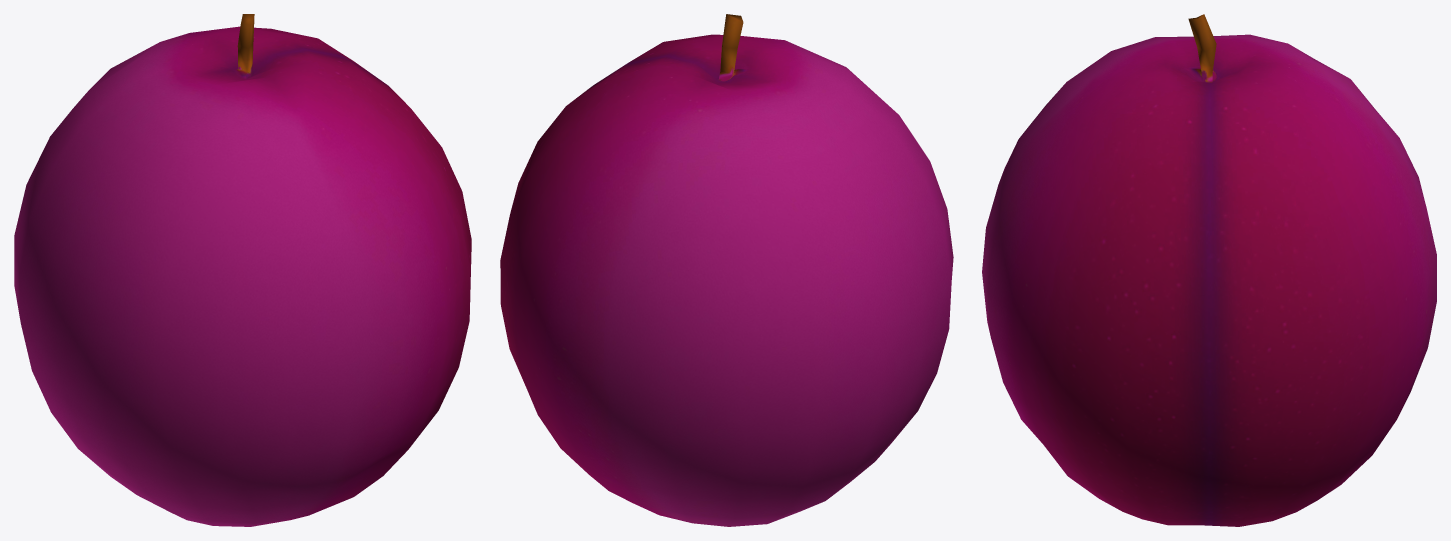
File: plum-300T.fbx
3 renders of one model, left to right at view 1: azimuth 30°, elevation 25°; view 2: azimuth 150°, elevation 25°; view 3: azimuth 270°, elevation 25°, orthographic.
Parts seen in each view (by area): view 1: tripo_node_a5fed876; view 2: tripo_node_a5fed876; view 3: tripo_node_a5fed876.
Part boxes in pixels (x1,y1,x2,y2): tripo_node_a5fed876: (14, 14, 471, 526); tripo_node_a5fed876: (500, 14, 953, 526); tripo_node_a5fed876: (982, 14, 1436, 526).
Size of the model in its own units: 0.8222 by 0.9971 by 0.8402.
1 material, 1 textured.
